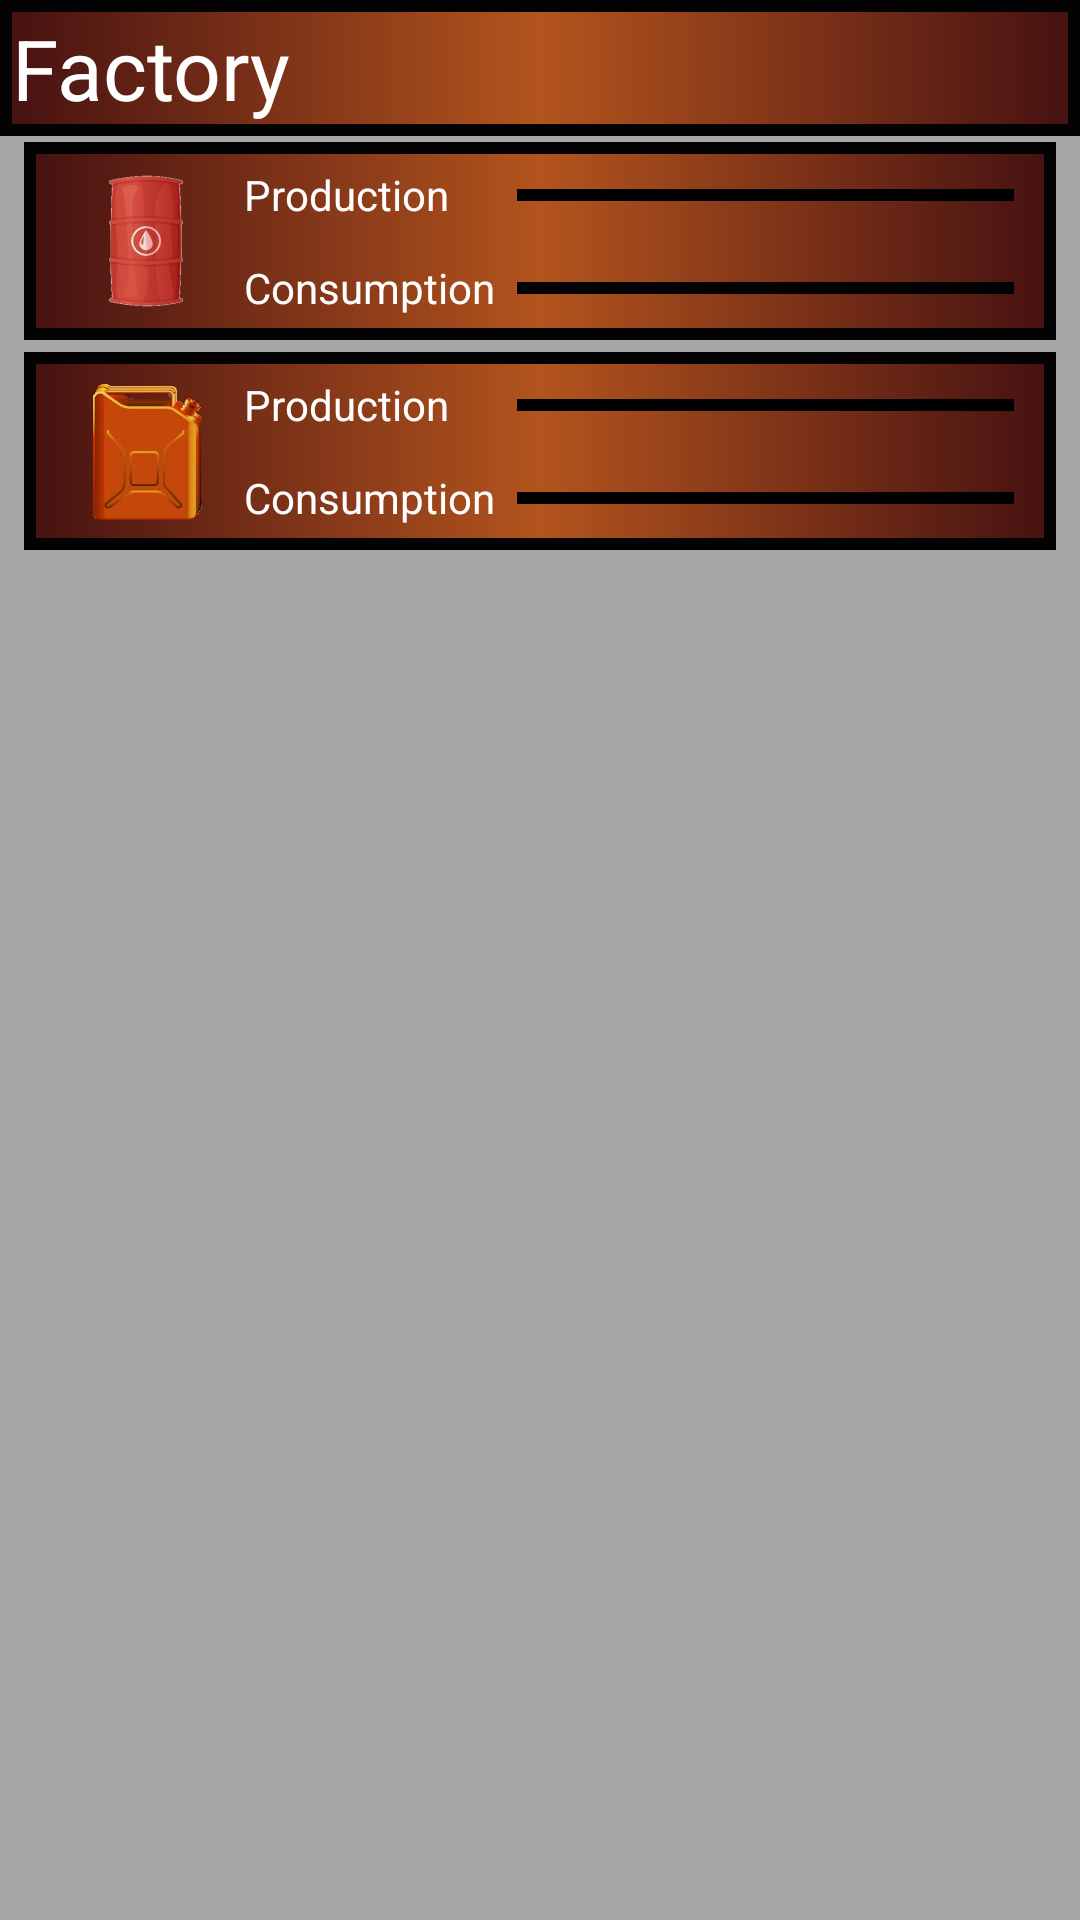

Where to tap for icons on this 1080x1920 app screen, as (x,y):
gas: (146,451)
oil barrel: (146,241)
